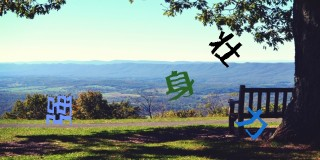力: (234, 106, 270, 141)
壮: (210, 30, 243, 70)
强: (45, 95, 75, 124)
身: (163, 68, 196, 103)
